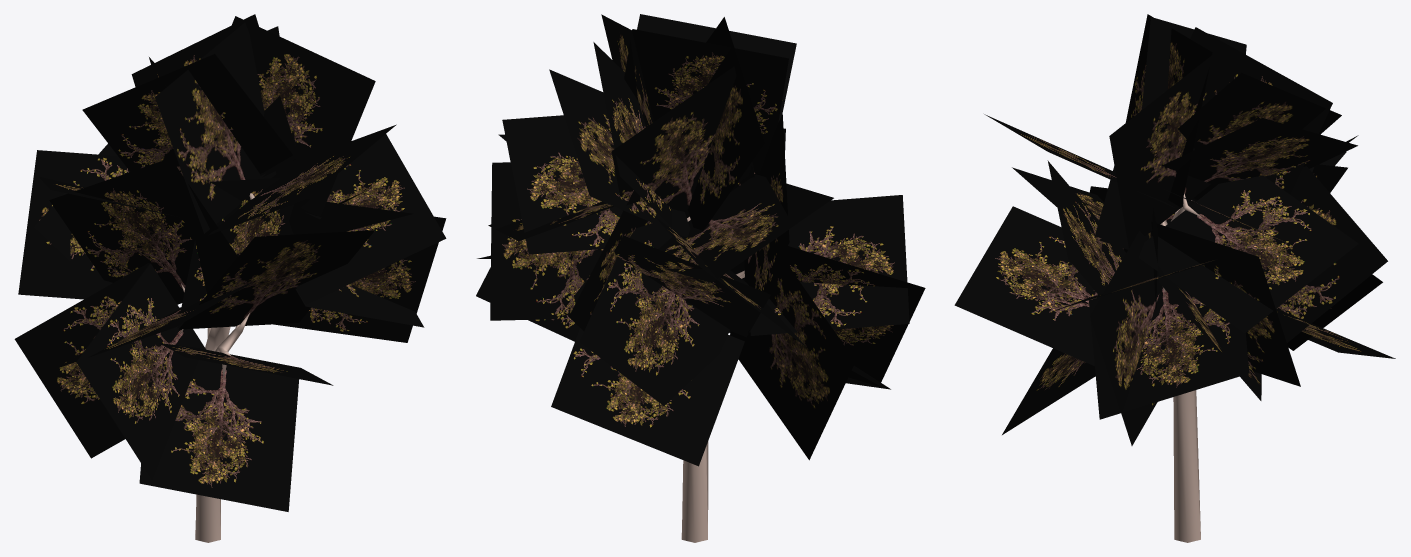
The model's file is tree2.glb.
3 views of the same model, side by side, from view 1: azimuth 30°, elevation 25°; view 2: azimuth 150°, elevation 25°; view 3: azimuth 270°, elevation 25° (orthographic). The views are drawn at different scales.
Size of the model in its own units: 5.52 by 7.05 by 5.49.
Materials: 2 (1 with a texture image).
